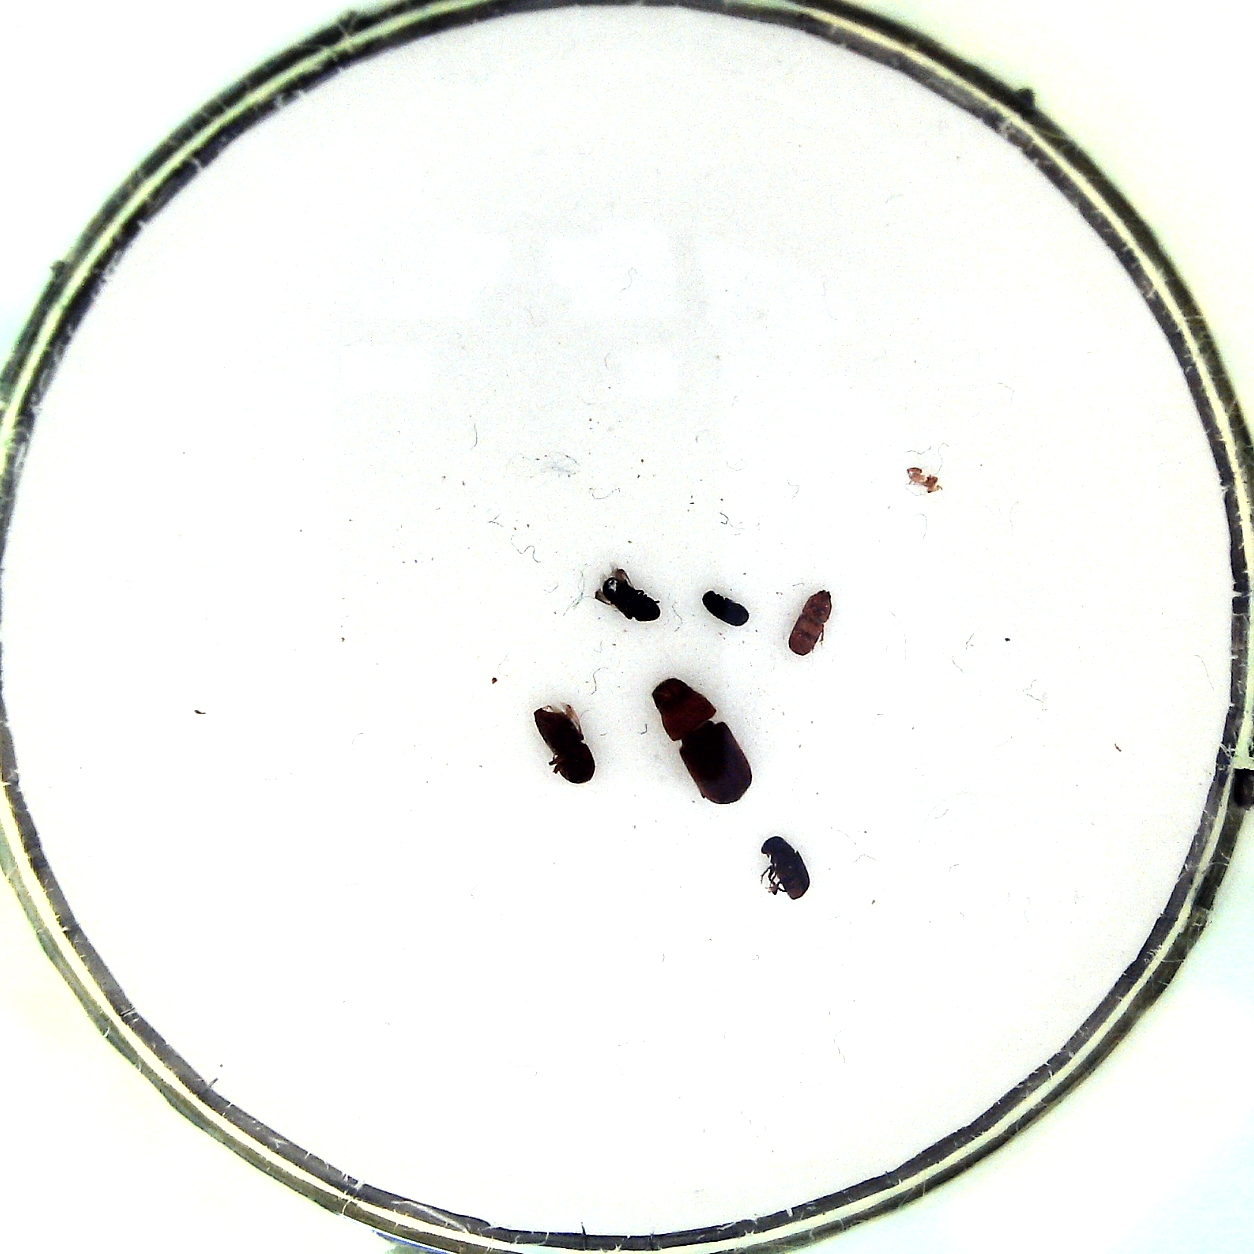Leconte: (647, 674, 754, 810)
Linnaeus: (528, 700, 595, 787)
acuminatus: (787, 585, 841, 657)
armandi: (754, 831, 816, 907)
coleoptera: (595, 562, 661, 626), (702, 587, 751, 633)
